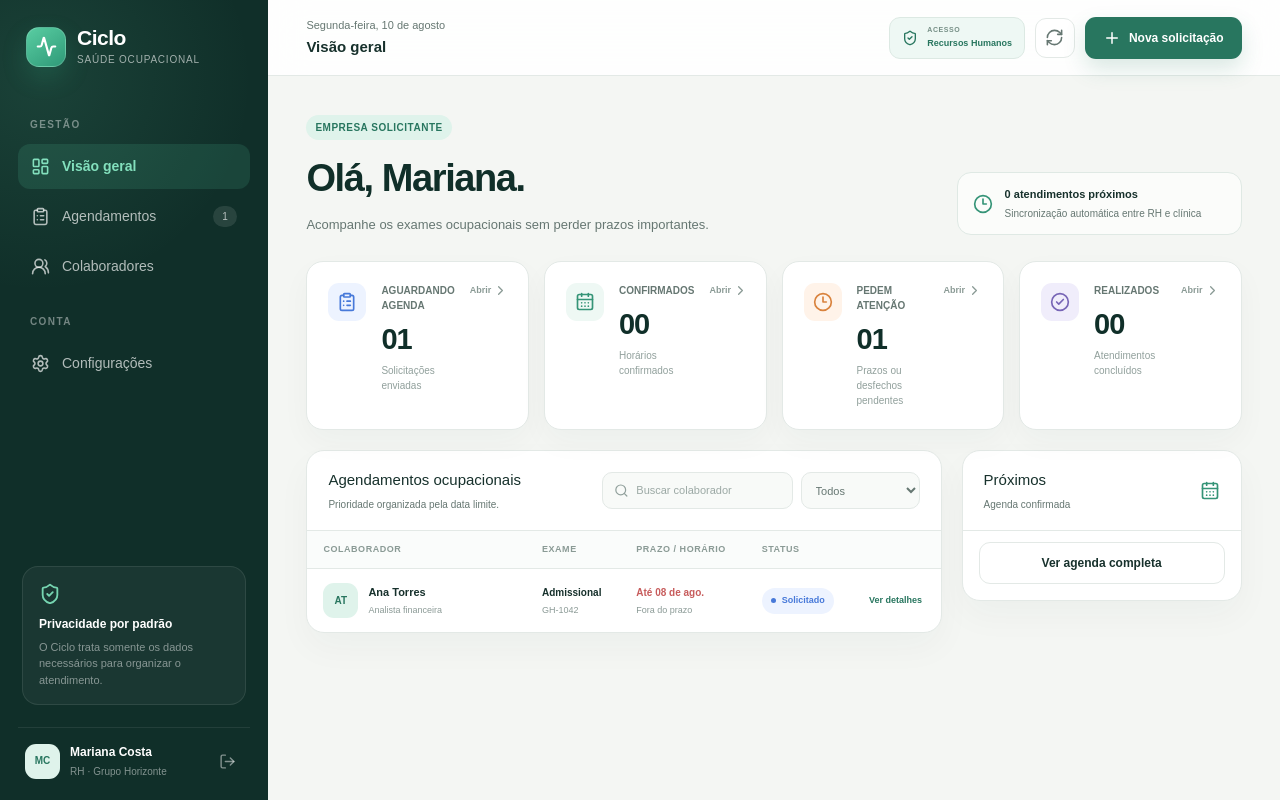
Test: Fluxo operacional por perfil › exige um motivo ao cancelar e envia a justificativa ao repositório
Click the button "AT Ana Torres Analista financeira" at (413, 601), box [323, 583, 503, 618]
(page scrolled)
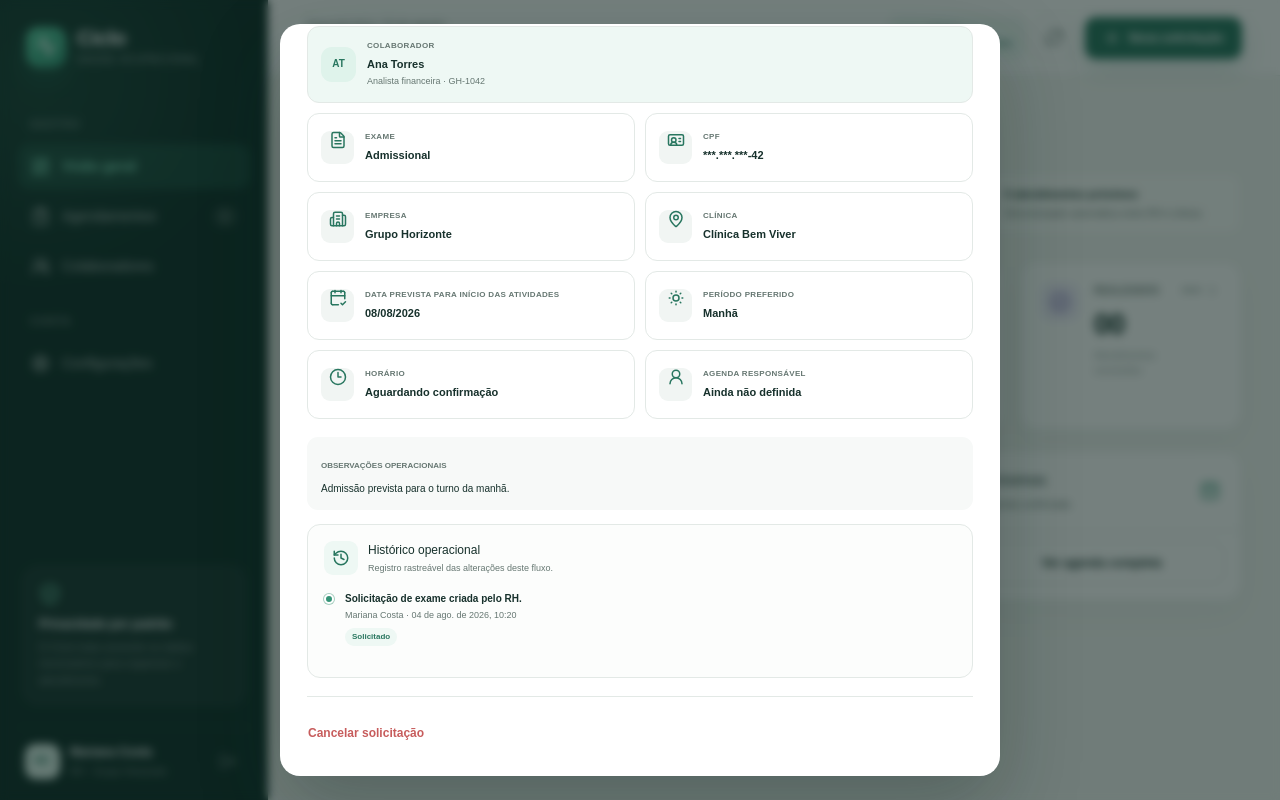
Click the button "Cancelar solicitação" at (366, 732), box [307, 714, 425, 750]
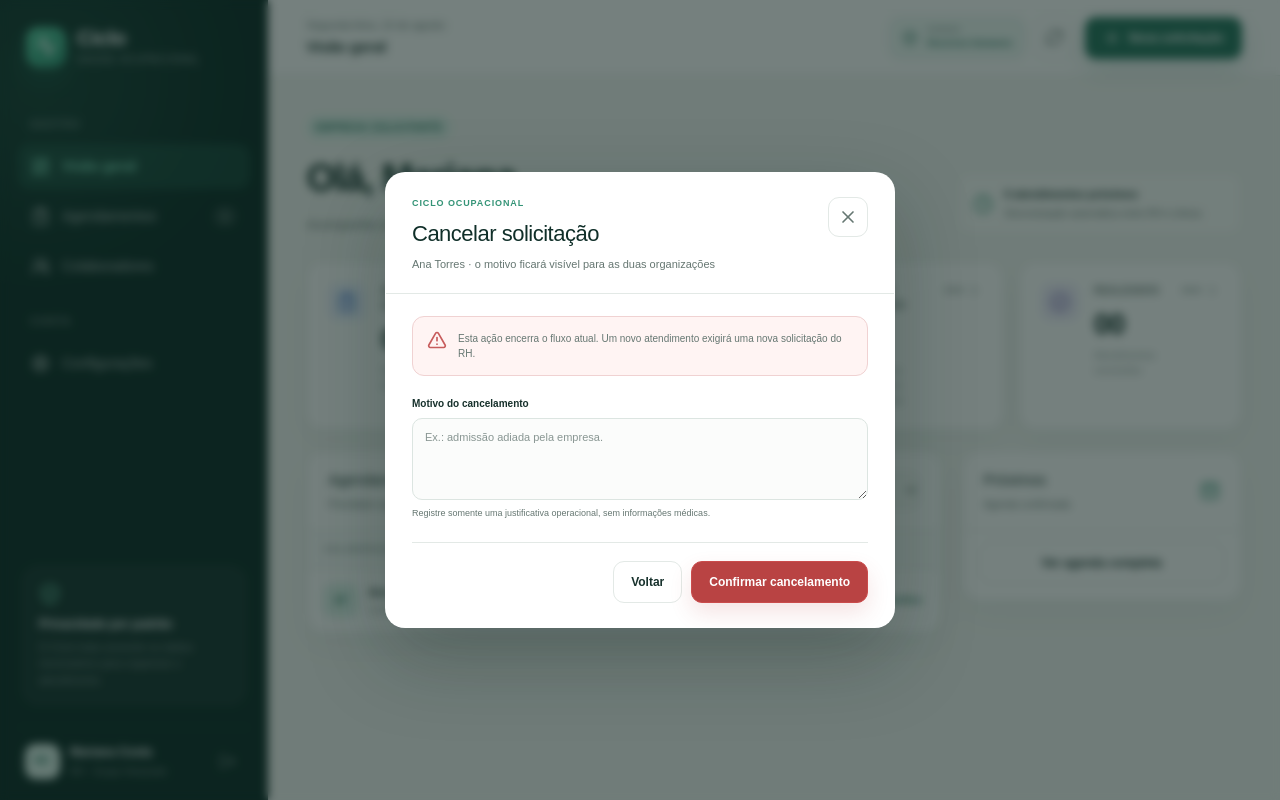
Type "Admissão adiada pela empresa." into the text box labelled "Motivo do cancelamento" at (640, 459), box [412, 418, 868, 500]
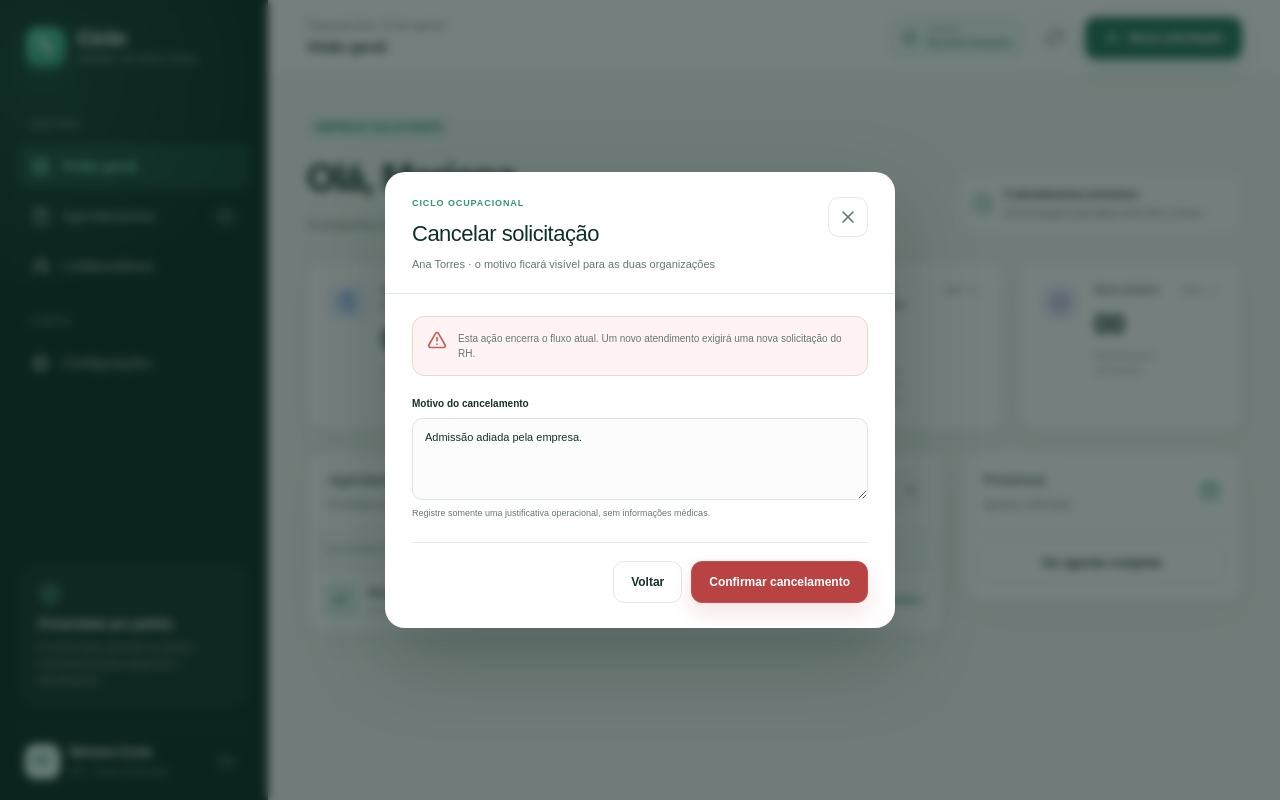
Click the button "Confirmar cancelamento" at (780, 582), box [691, 561, 868, 603]
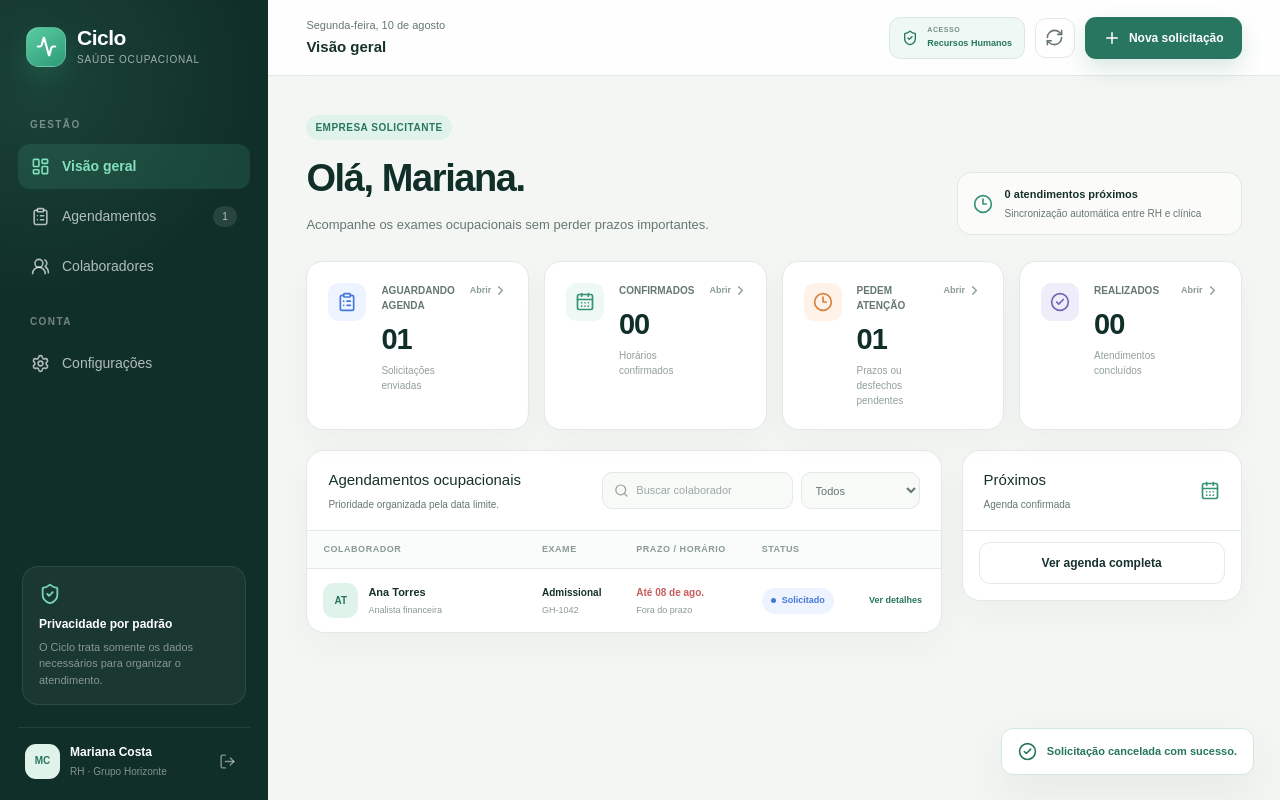
Expected: the message reads "Solicitação cancelada com sucesso.", [1047, 745, 1237, 757]
